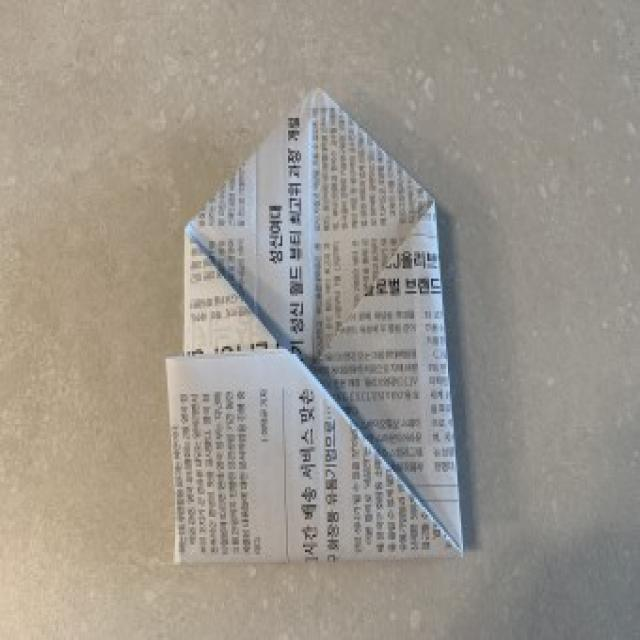reuseable_paper: (176, 78, 470, 562)
